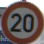20 km speed: (1, 1, 43, 44)
